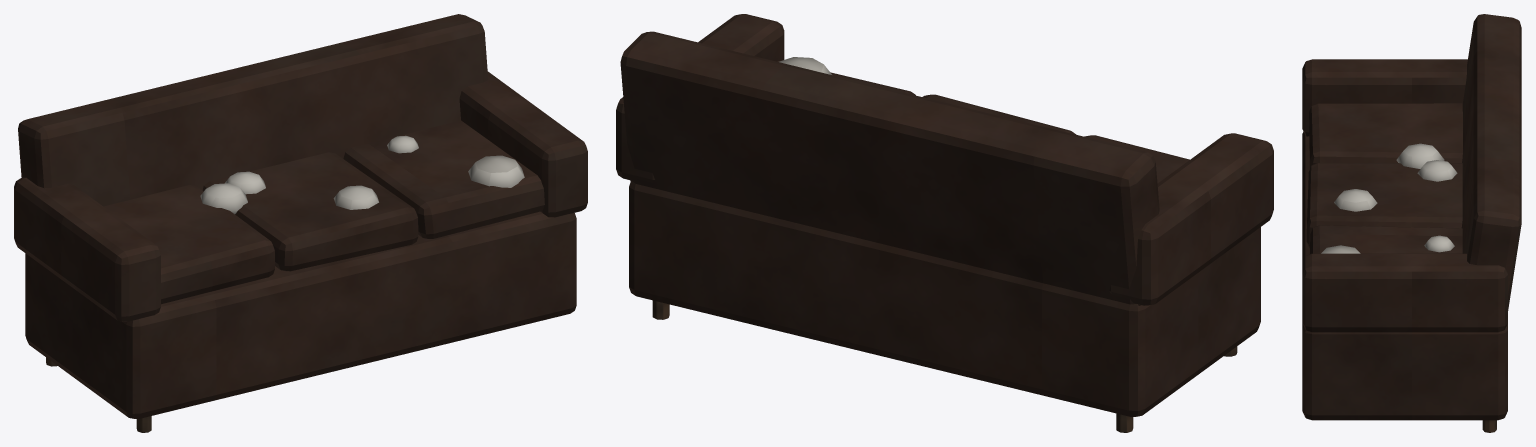
The model's file is BR11_ripped_sofa_v2.glb.
3 views of the same model, side by side, from view 1: azimuth 30°, elevation 25°; view 2: azimuth 150°, elevation 25°; view 3: azimuth 270°, elevation 25° (orthographic). The views are drawn at different scales.
Visible parts, largest first — view 1: BR11_ripped_sofa_v2; view 2: BR11_ripped_sofa_v2; view 3: BR11_ripped_sofa_v2.
Boxes of the visible parts, box(x1,y1,x2,y2) form: BR11_ripped_sofa_v2: box(14, 14, 587, 432); BR11_ripped_sofa_v2: box(616, 14, 1273, 432); BR11_ripped_sofa_v2: box(1302, 14, 1521, 432).
Size of the model in its own units: 2 by 0.9816 by 0.8636.
Materials: 3 (3 with a texture image).
